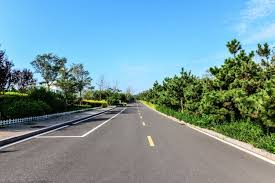strada: (3, 117, 268, 178)
